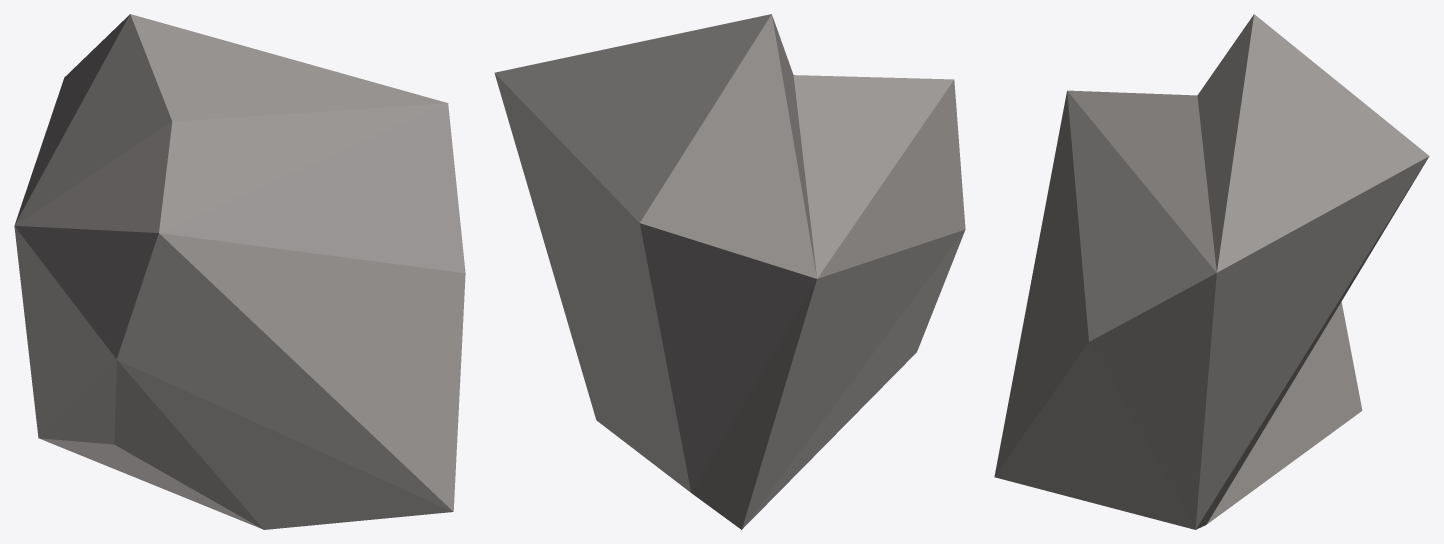
Rendered from rock3.fbx.
3 views of the same model, side by side, from view 1: azimuth 30°, elevation 25°; view 2: azimuth 150°, elevation 25°; view 3: azimuth 270°, elevation 25° (orthographic). The views are drawn at different scales.
Parts seen in each view (by area): view 1: Cube.003; view 2: Cube.003; view 3: Cube.003.
Part boxes in pixels (bbox=[...]): Cube.003: bbox=[14, 14, 465, 529]; Cube.003: bbox=[494, 14, 965, 529]; Cube.003: bbox=[994, 14, 1429, 529].
Bounding box in the file's own units: 343 × 428 × 363.
